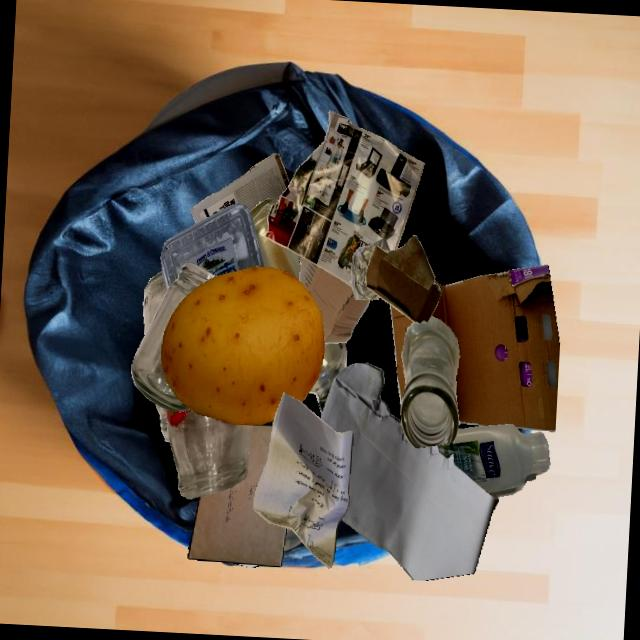biowaste: (161, 266, 325, 425)
cardboard: (431, 265, 560, 432), (366, 235, 442, 323), (299, 257, 370, 344)
glass: (131, 261, 216, 412), (166, 409, 252, 499), (401, 316, 459, 448), (250, 198, 302, 281), (309, 343, 347, 414), (190, 544, 284, 565), (143, 271, 167, 335), (156, 404, 170, 442)
paper: (320, 363, 498, 580), (265, 110, 425, 287), (253, 392, 354, 568), (188, 425, 287, 567), (190, 154, 290, 224), (351, 238, 390, 300)
plastic: (161, 203, 264, 291), (437, 424, 550, 497)
